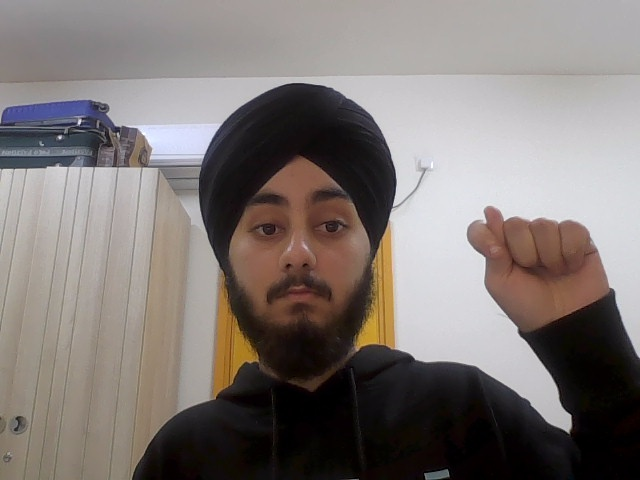Bathroom: (465, 198, 618, 327)
